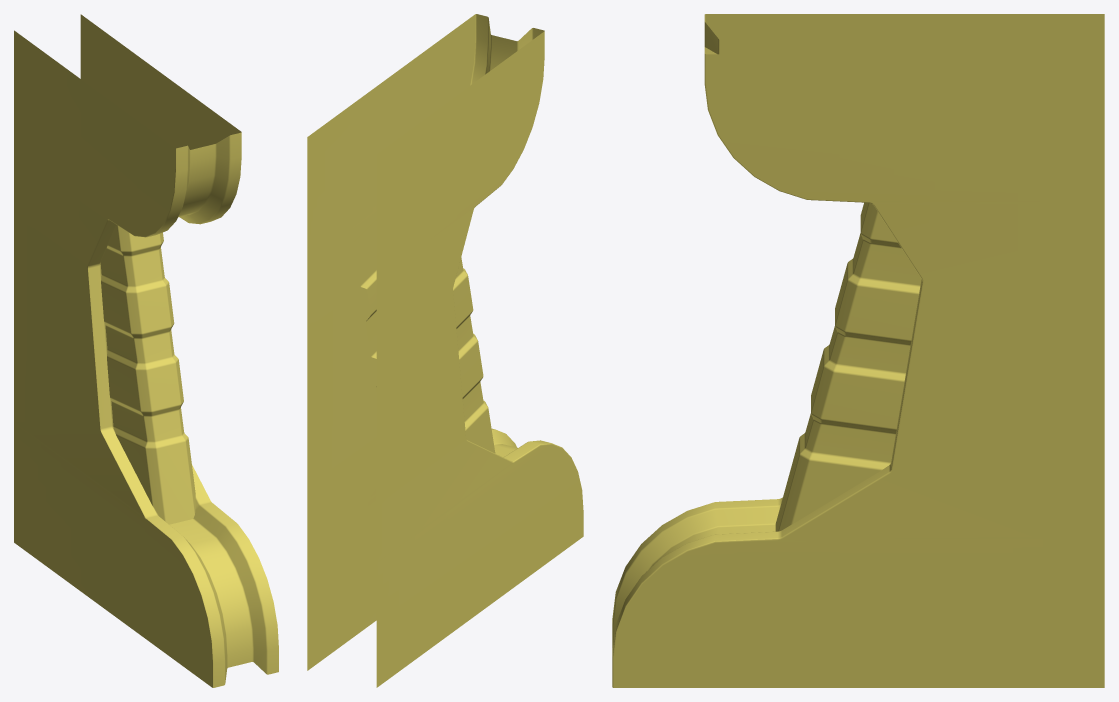
Rendered from ColumnScifi.fbx.
3 views of the same model, side by side, from view 1: azimuth 30°, elevation 25°; view 2: azimuth 150°, elevation 25°; view 3: azimuth 270°, elevation 25° (orthographic). The views are drawn at different scales.
Visible parts, largest first — view 1: Column01; view 2: Column01; view 3: Column01.
Part boxes in pixels (x1=…): Column01: x1=14, y1=14, x2=278, y2=687; Column01: x1=307, y1=14, x2=583, y2=687; Column01: x1=612, y1=14, x2=1104, y2=687.
Size of the model in its own units: 687 by 5051 by 3554.
